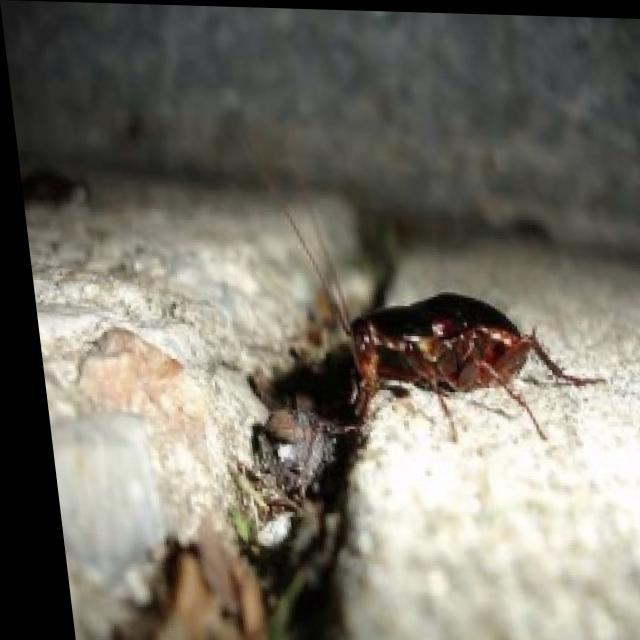cockroach: (301, 222, 578, 466)
